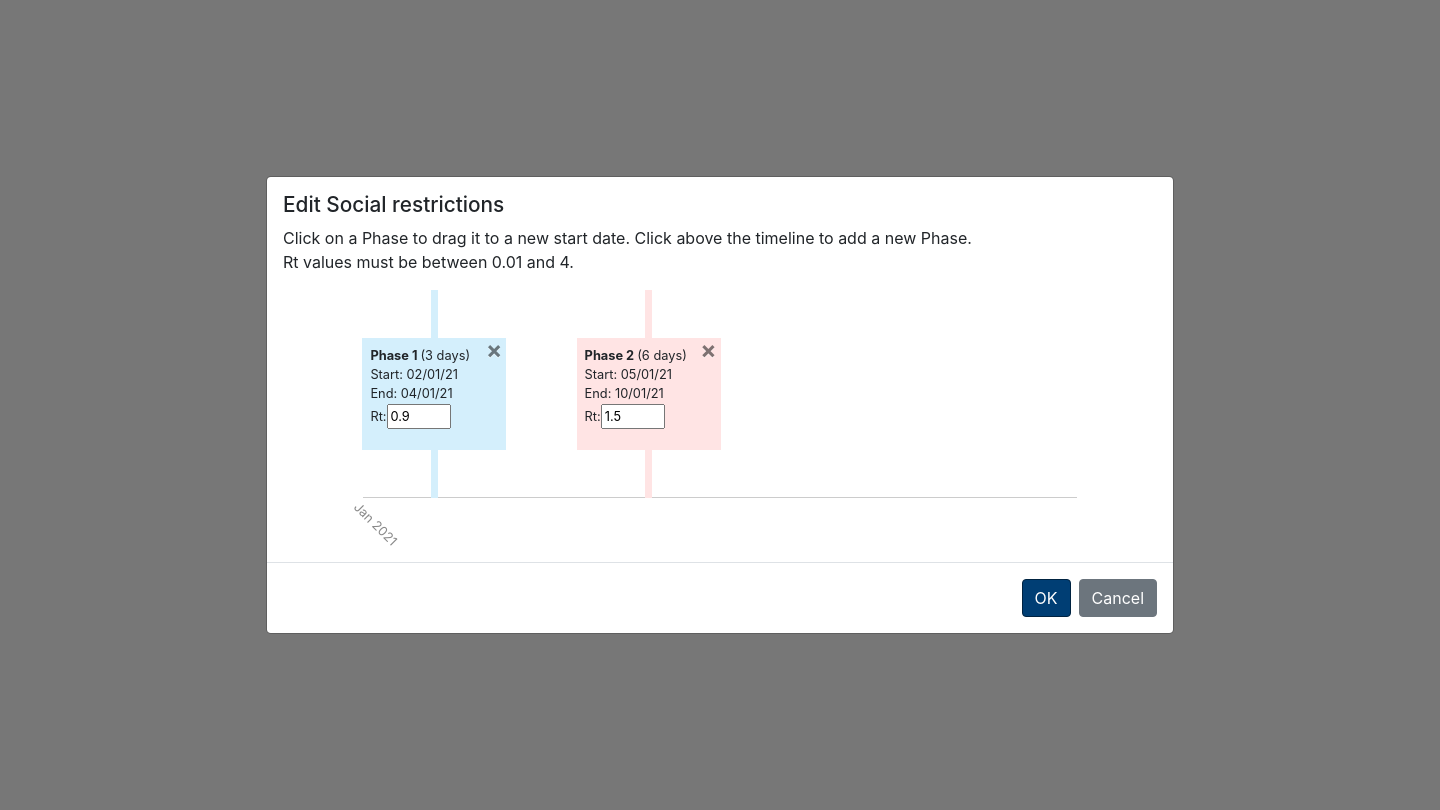
Scenario: EditPhases › dragging slider updates values
Press the mouse on the slider with class "slider" that starts with "Phase 2" at coordinates (649, 394), box [577,338,721,450]
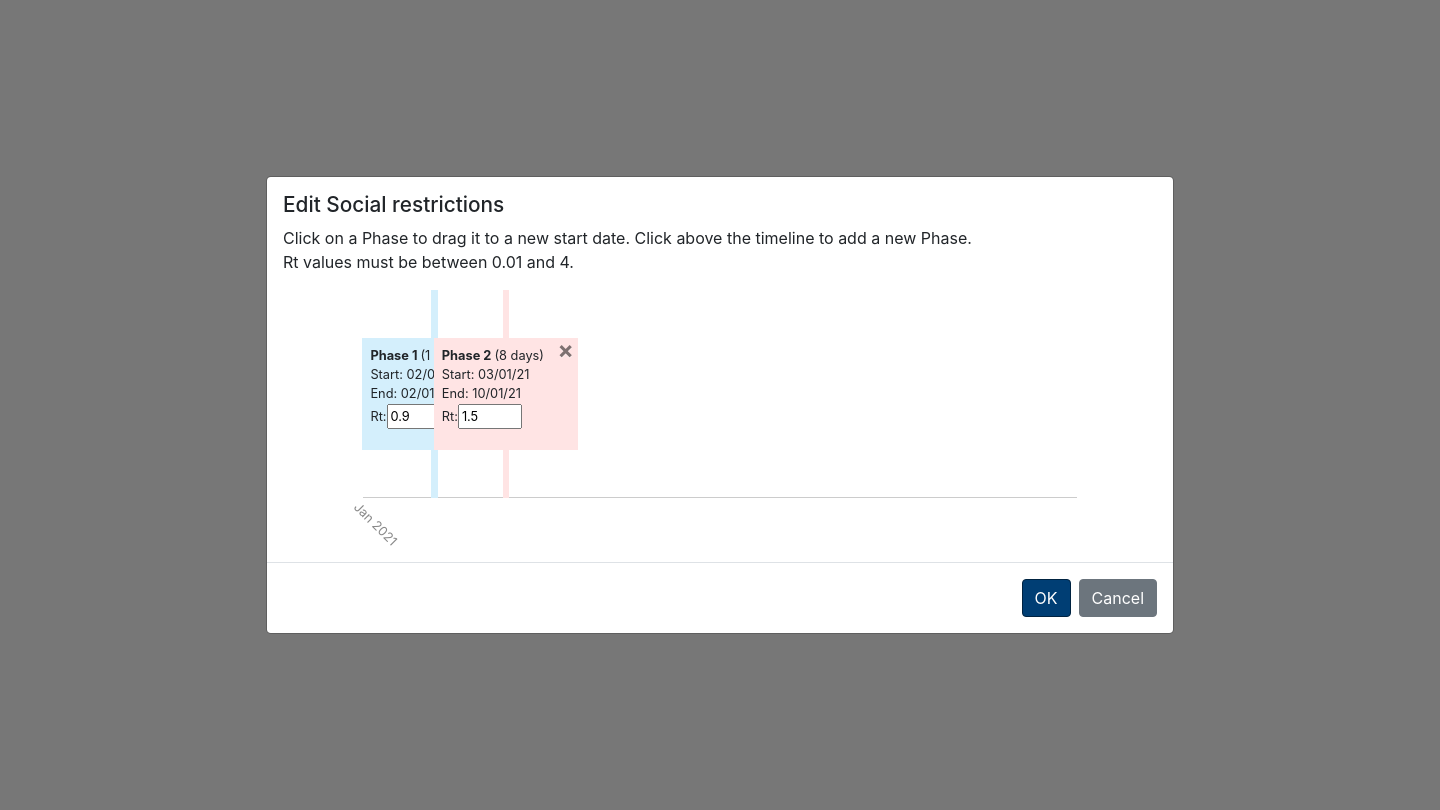
Check: the text "(1 day)" is shown, box [420,348,461,363]
Check: the text "End: 02/01/21" is shown, box [370,384,461,404]
Check: the text "(8 days)" is shown, box [494,348,544,363]
